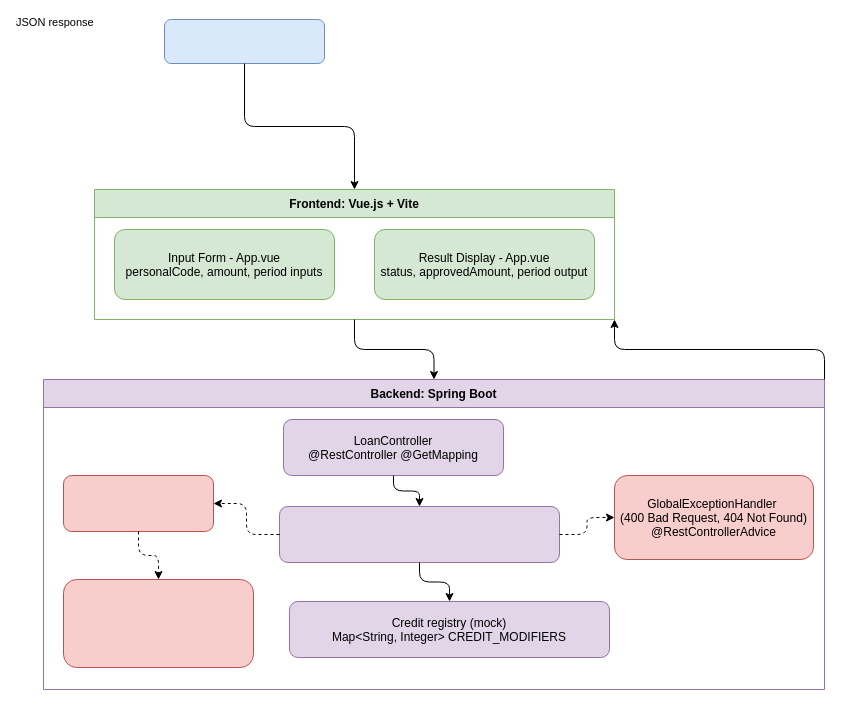
Some shapes in this 841 by 706 pixel diagram are drawn without their labels. Each missing label, with the centre of its shape:
DecisionStatus (enum): -APPROVED -REJECTED - DEBT - UNKNOWN_APPLICANT: point 158,623
LoanResponse (record): status, amount, period: point 138,503
LoanService @Service calculateLoan(), maxApprovedAmount(): point 419,534
User (browser): point 244,41
